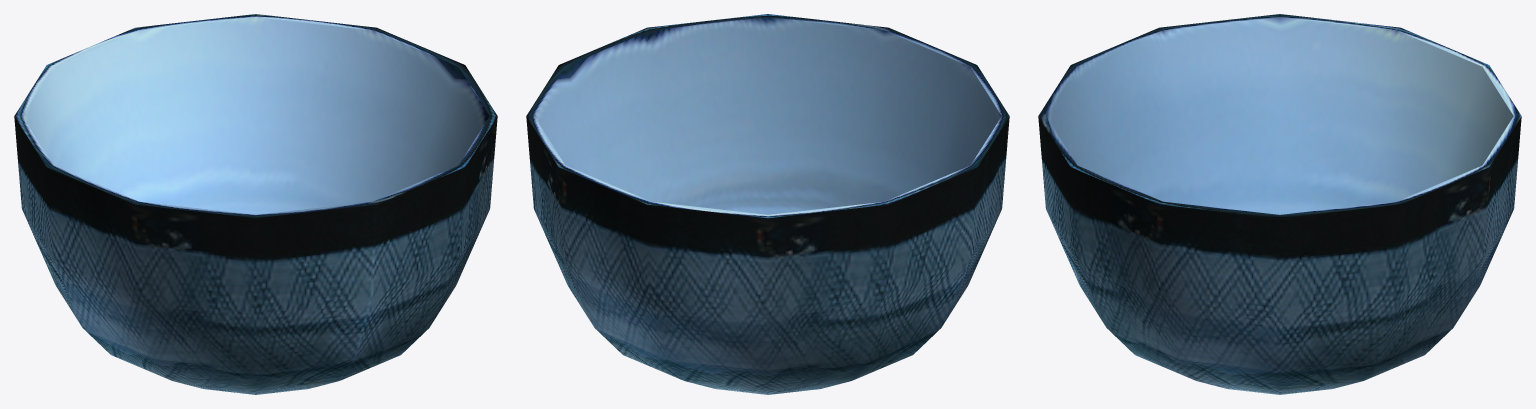
Rendered from bowl-6.FBX.
3 renders of one model, left to right at view 1: azimuth 30°, elevation 25°; view 2: azimuth 150°, elevation 25°; view 3: azimuth 270°, elevation 25°, orthographic.
Visible parts, largest first — view 1: bowl-6_LOD0; view 2: bowl-6_LOD0; view 3: bowl-6_LOD0.
Boxes of the visible parts, left/top/right/bottom form: bowl-6_LOD0: left=14, top=14, right=497, bottom=394; bowl-6_LOD0: left=526, top=14, right=1009, bottom=394; bowl-6_LOD0: left=1038, top=14, right=1521, bottom=394.
Size of what is drawn, in the model's own units: 8.41 by 4.5 by 8.41.
